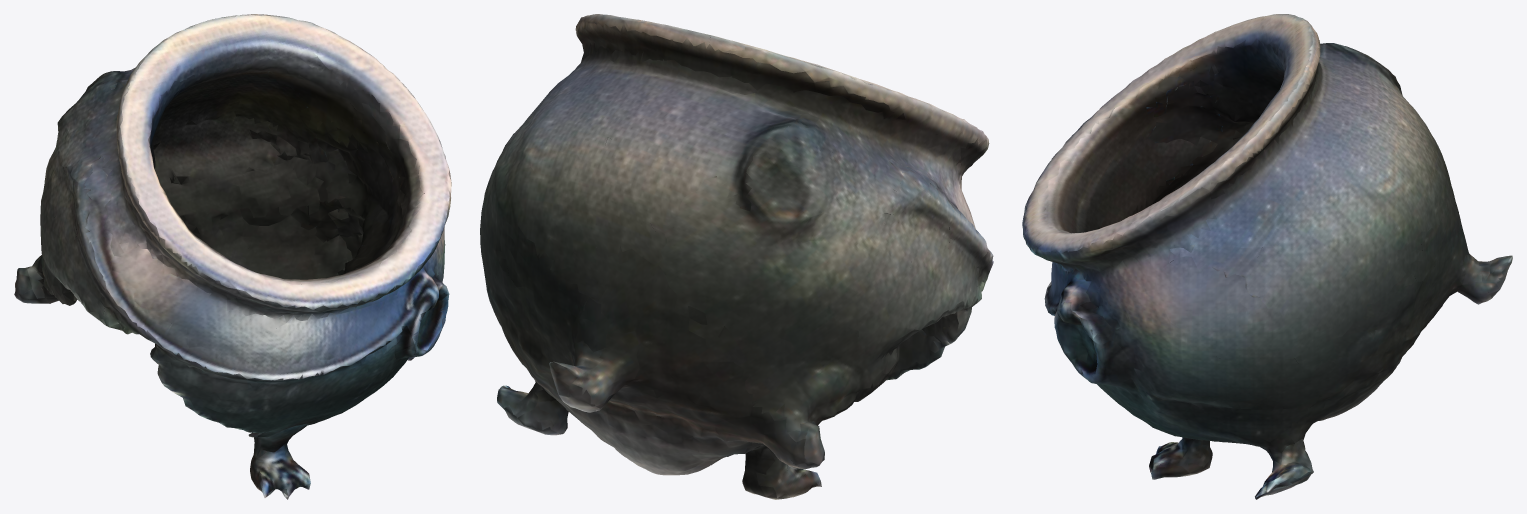
The picture shows the model from 3 angles, left to right: view 1: azimuth 30°, elevation 25°; view 2: azimuth 150°, elevation 25°; view 3: azimuth 270°, elevation 25°; orthographic projection. The views are drawn at different scales.
Parts seen in each view (by area): view 1: geometry_0; view 2: geometry_0; view 3: geometry_0.
Boxes of the visible parts, x1,y1,x2,y2 form: geometry_0: [14, 14, 451, 499]; geometry_0: [480, 14, 993, 499]; geometry_0: [1022, 14, 1512, 499].
Size of the model in its own units: 0.8284 by 0.9347 by 0.9574.
1 material, 1 textured.
